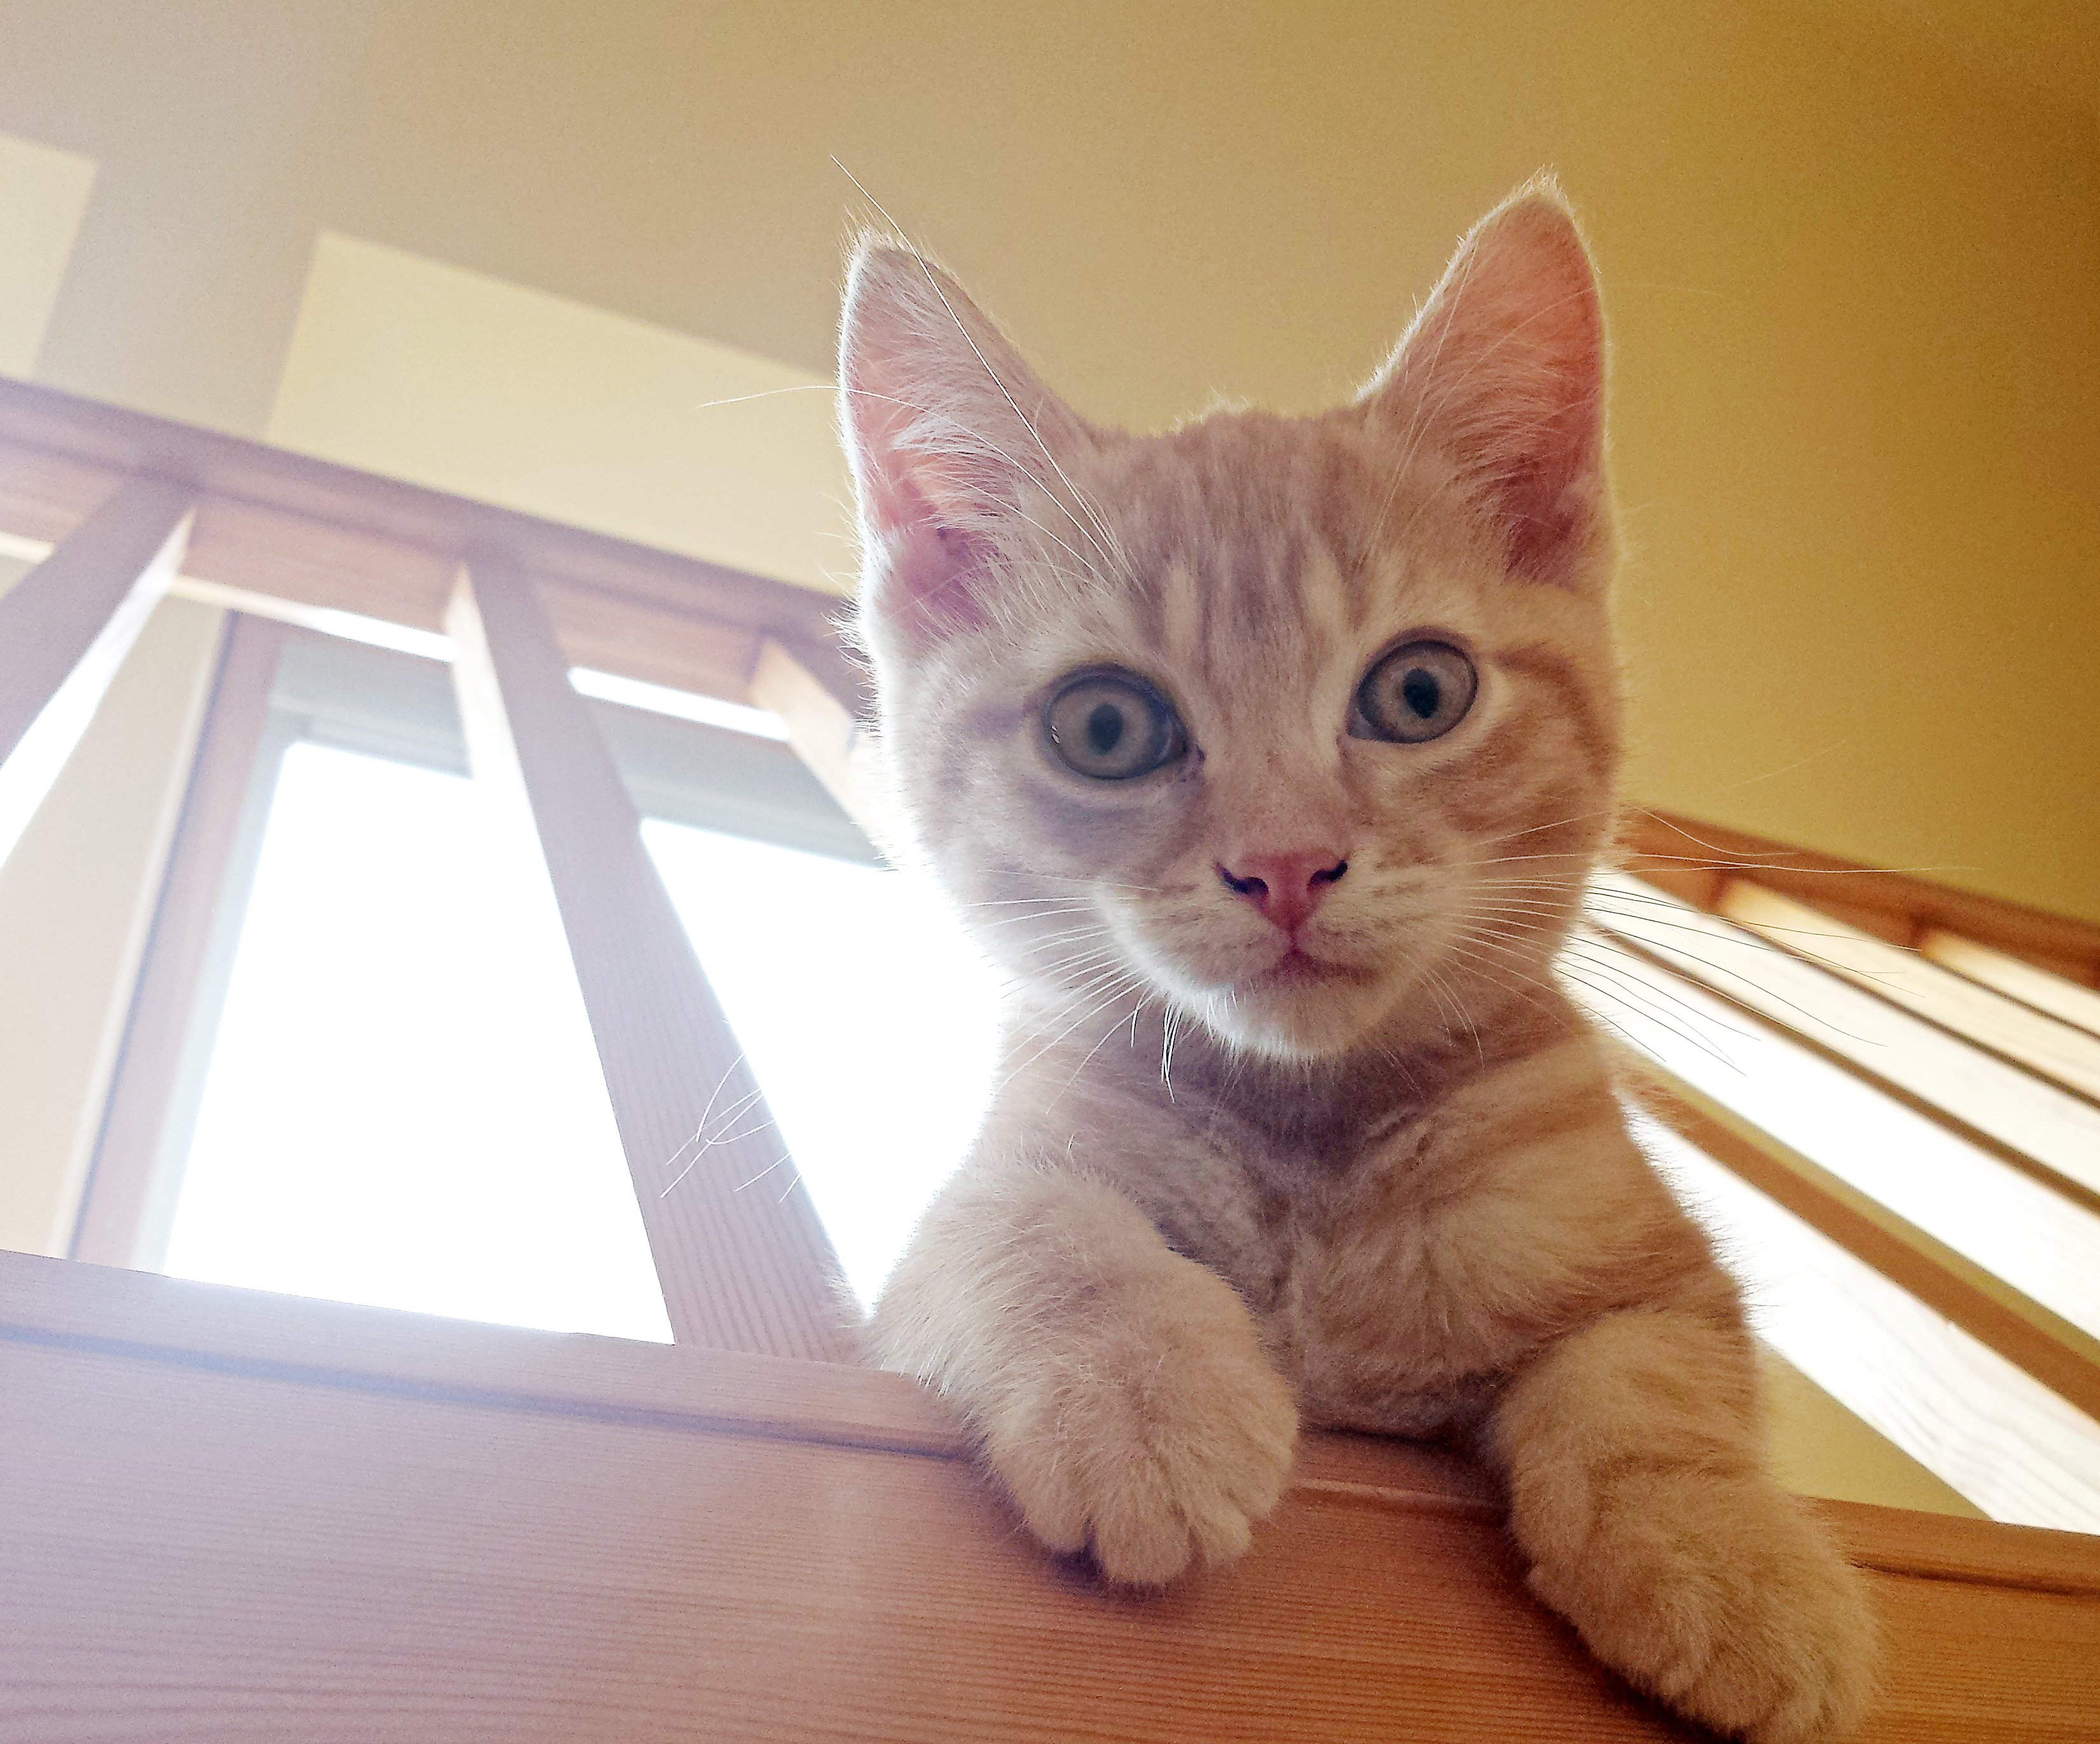cat: (841, 192, 1858, 1692)
